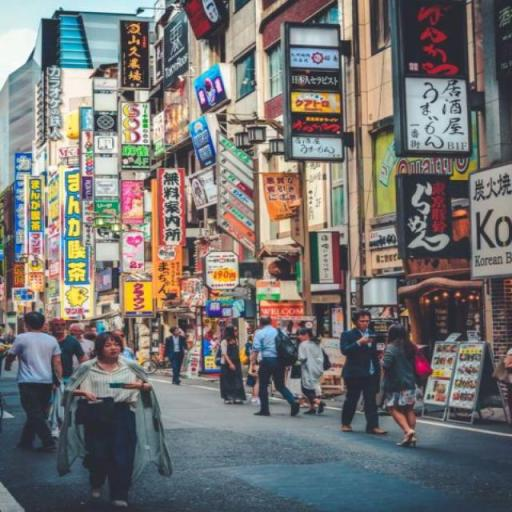person: (69, 334, 154, 510), (10, 312, 64, 451), (336, 310, 391, 435), (249, 316, 307, 417), (48, 319, 90, 440), (384, 323, 424, 448), (296, 328, 327, 416), (219, 324, 248, 406), (164, 328, 193, 388)
